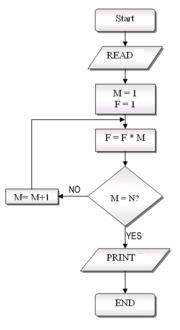arrow: (29, 116, 128, 191), (59, 193, 89, 201), (122, 226, 129, 249), (122, 271, 128, 293), (122, 151, 128, 166), (122, 114, 128, 128), (122, 34, 129, 45), (123, 70, 128, 83)
data: (79, 247, 173, 274), (87, 44, 164, 72)
decision: (88, 166, 164, 228)
process: (94, 82, 159, 117), (93, 6, 158, 35), (93, 127, 158, 154), (93, 292, 156, 319), (4, 187, 61, 207)
text: (111, 89, 138, 109), (102, 132, 147, 144), (12, 191, 50, 202), (108, 193, 140, 204), (105, 252, 137, 262), (103, 51, 134, 61), (112, 13, 136, 24), (114, 297, 135, 308), (125, 230, 144, 241), (66, 184, 84, 194)
